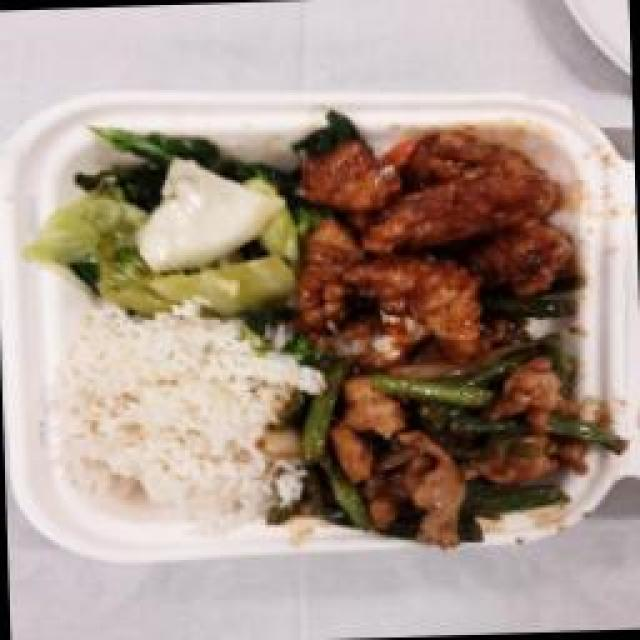String Bean Chicken Breast: (292, 333, 610, 546)
Super Greens: (45, 128, 308, 331)
The Original Orange Chicken: (282, 115, 590, 355)
White Steamed Rice: (50, 310, 290, 523)
